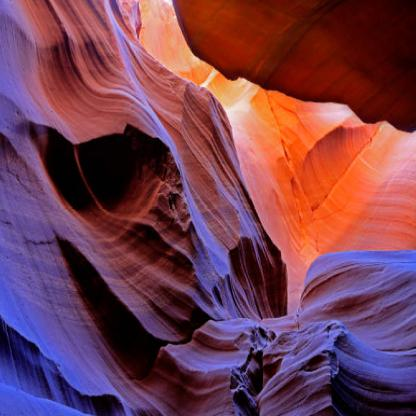Sedimentary_Sandstone: (1, 86, 289, 310), (172, 0, 415, 133), (297, 251, 415, 415), (1, 317, 129, 415), (142, 323, 262, 415)
